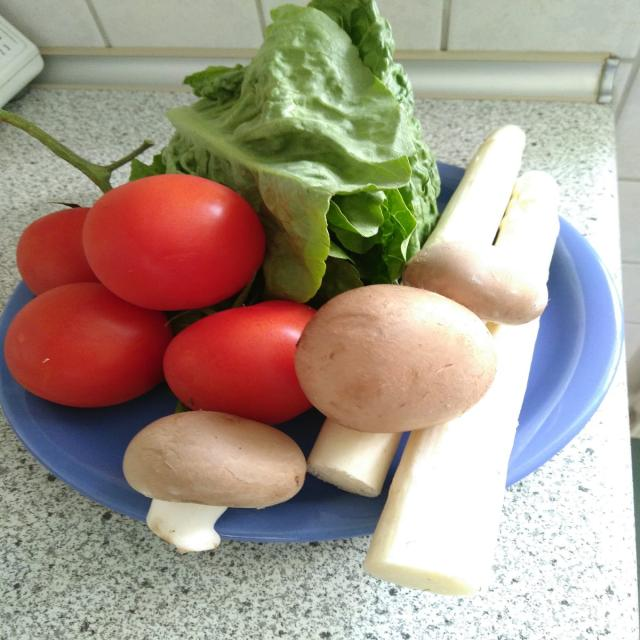Mushroom: (296, 282, 501, 438), (119, 412, 308, 553), (406, 240, 550, 324)
Tomato: (80, 174, 264, 312), (5, 282, 172, 409), (163, 302, 324, 425), (18, 208, 120, 298)
